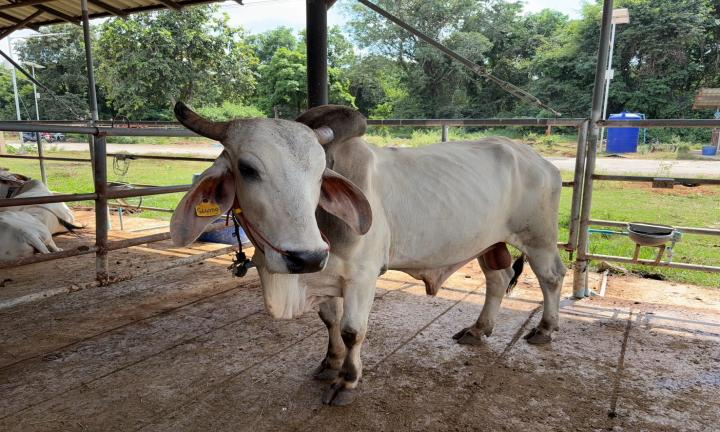Brahman: (171, 102, 565, 405)
